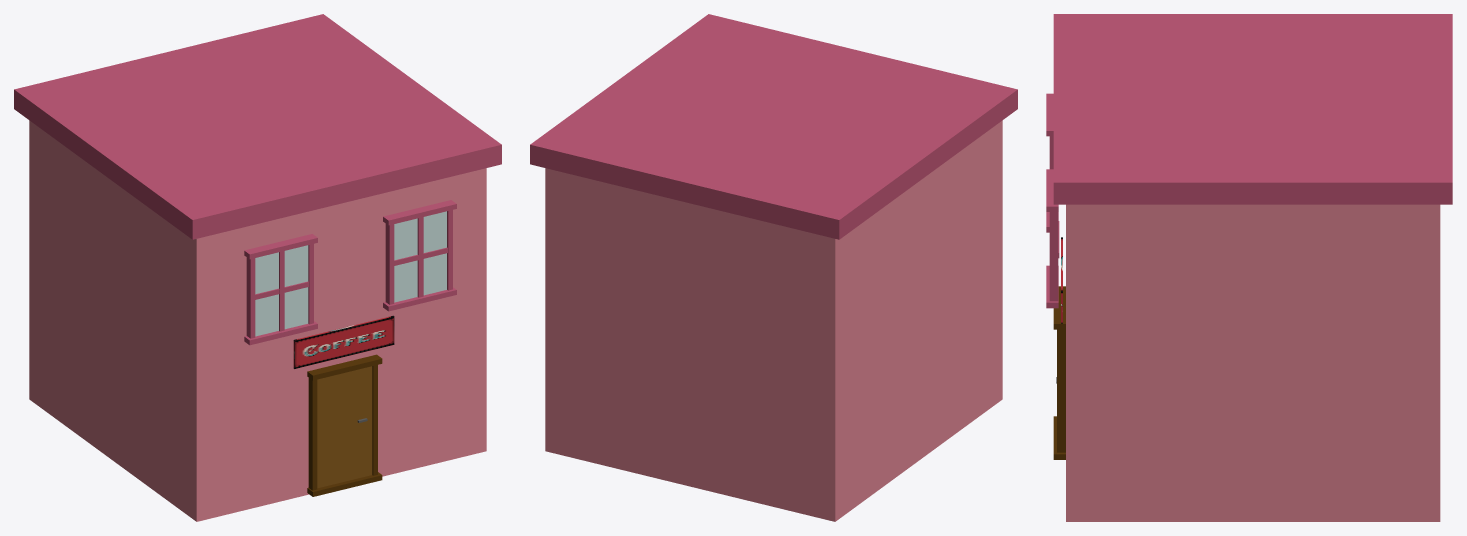
Rendered from coffe-shop.fbx.
3 renders of one model, left to right at view 1: azimuth 30°, elevation 25°; view 2: azimuth 150°, elevation 25°; view 3: azimuth 270°, elevation 25°, orthographic. The views are drawn at different scales.
Parts seen in each view (by area): view 1: Shop; view 2: Shop; view 3: Shop.
Boxes of the visible parts, x1=… form: Shop: x1=14, y1=14, x2=501, y2=521; Shop: x1=530, y1=14, x2=1017, y2=521; Shop: x1=1046, y1=14, x2=1452, y2=521.
Bounding box in the file's own units: 2598 × 2475 × 2646.
